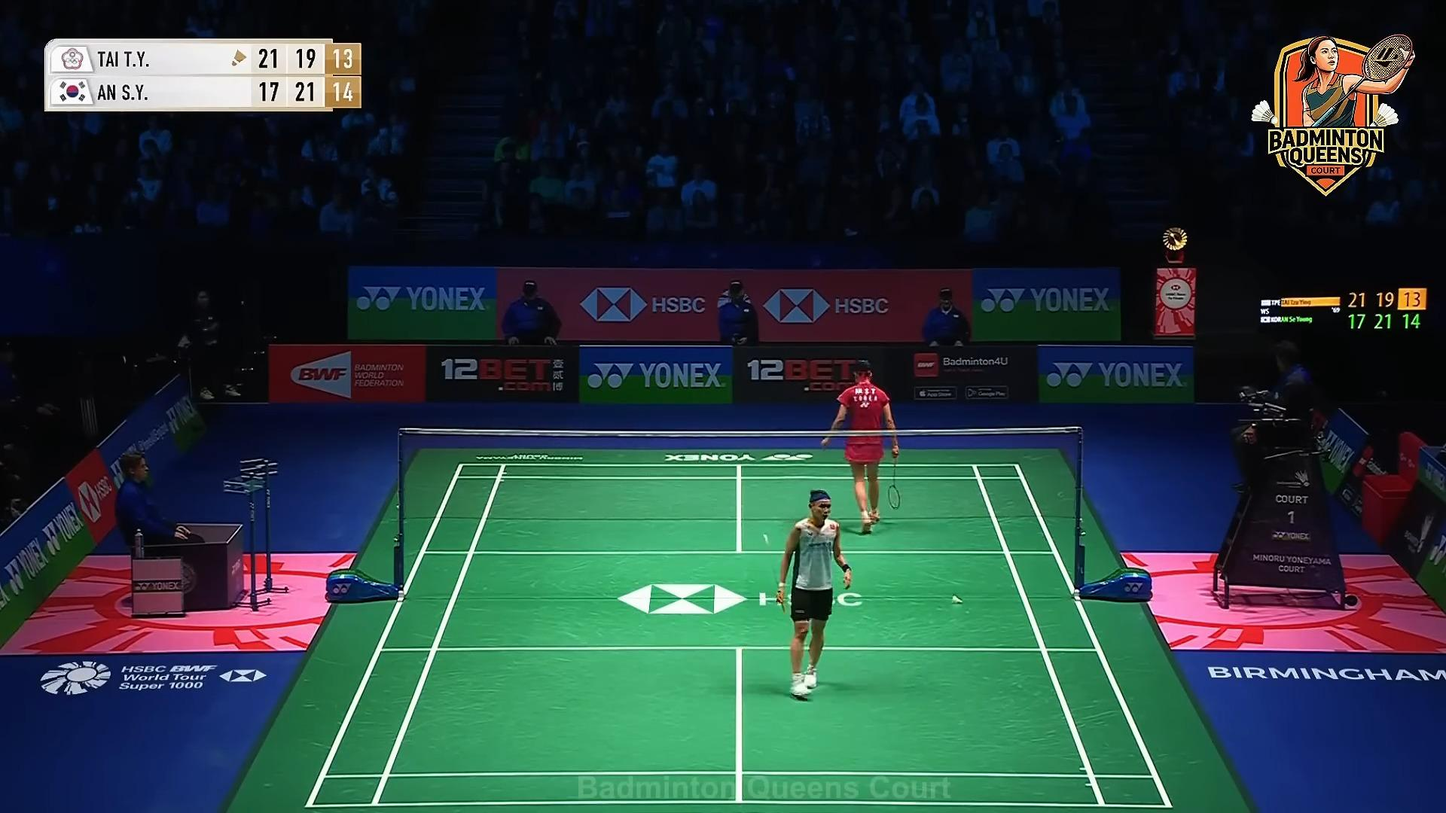player: (776, 489, 852, 701), (821, 366, 900, 535)
